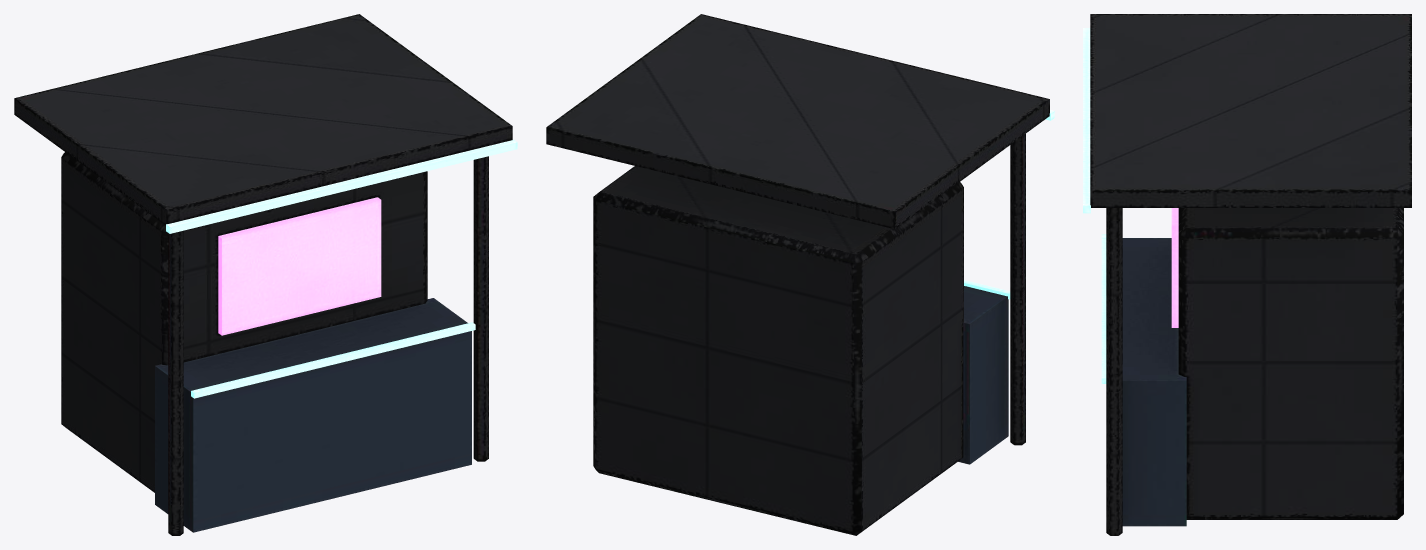
The model's file is quiosque_neon.glb.
The picture shows the model from 3 angles, left to right: view 1: azimuth 30°, elevation 25°; view 2: azimuth 150°, elevation 25°; view 3: azimuth 270°, elevation 25°; orthographic projection. The views are drawn at different scales.
Visible parts, largest first — view 1: quiosque_neon; view 2: quiosque_neon; view 3: quiosque_neon.
Part boxes in pixels (<box>): quiosque_neon: <box>14,14,517,535</box>; quiosque_neon: <box>546,14,1054,535</box>; quiosque_neon: <box>1083,14,1411,535</box>.
Size of the model in its own units: 2.62 by 2.42 by 2.05.
Materials: 1 (1 with a texture image).
